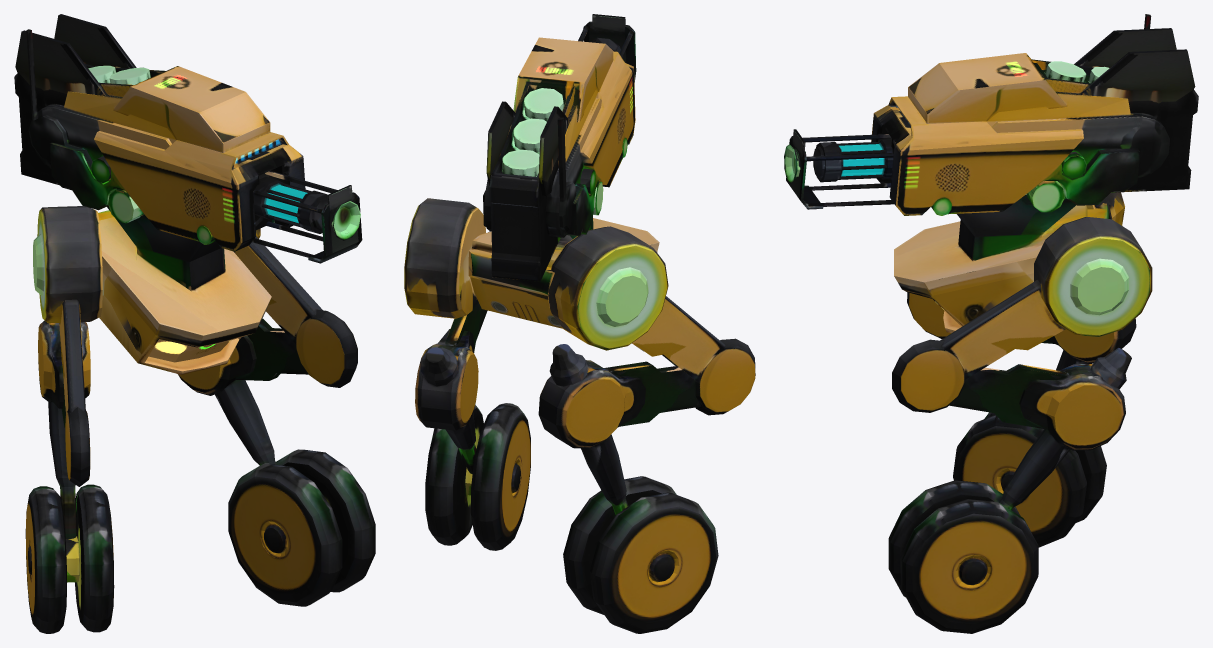
The picture shows the model from 3 angles, left to right: view 1: azimuth 30°, elevation 25°; view 2: azimuth 150°, elevation 25°; view 3: azimuth 270°, elevation 25°; orthographic projection. The views are drawn at different scales.
Visible parts, largest first — view 1: mvadapter_node_0127_4371da6fe69c4ae08cd442cfe2a7141d; view 2: mvadapter_node_0127_4371da6fe69c4ae08cd442cfe2a7141d; view 3: mvadapter_node_0127_4371da6fe69c4ae08cd442cfe2a7141d.
Part boxes in pixels (box(x1,y1,x2,y2)): mvadapter_node_0127_4371da6fe69c4ae08cd442cfe2a7141d: box(14, 14, 375, 633); mvadapter_node_0127_4371da6fe69c4ae08cd442cfe2a7141d: box(404, 14, 755, 633); mvadapter_node_0127_4371da6fe69c4ae08cd442cfe2a7141d: box(784, 14, 1198, 633).
Bounding box in the file's own units: 0.5777 × 1 × 0.7085.
1 material, 1 textured.
